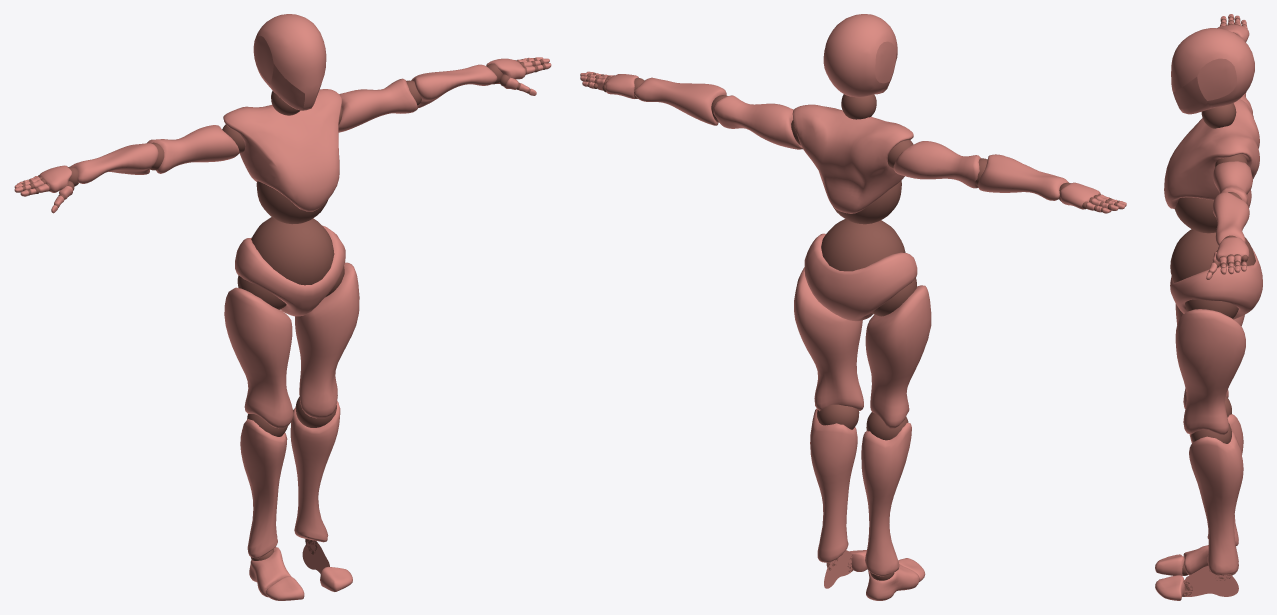
File: Mixamo_Mesh_Tpose.fbx
3 renders of one model, left to right at view 1: azimuth 30°, elevation 25°; view 2: azimuth 150°, elevation 25°; view 3: azimuth 270°, elevation 25°, orthographic. The views are drawn at different scales.
Parts seen in each view (by area): view 1: Beta_Surface, Beta_Joints; view 2: Beta_Surface, Beta_Joints; view 3: Beta_Surface, Beta_Joints.
Part boxes in pixels (box(x1,y1,x2,y2)): Beta_Surface: box(14, 14, 551, 600); Beta_Joints: box(21, 58, 545, 560); Beta_Surface: box(580, 14, 1126, 600); Beta_Joints: box(586, 72, 1119, 580); Beta_Surface: box(1155, 14, 1262, 600); Beta_Joints: box(1170, 16, 1255, 596).
Size of the model in its own units: 181 by 181 by 31.9.
